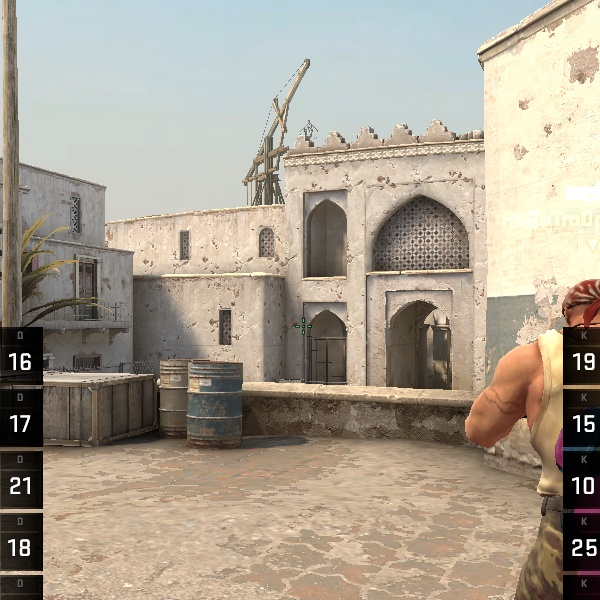t_head: (559, 273, 600, 341)
